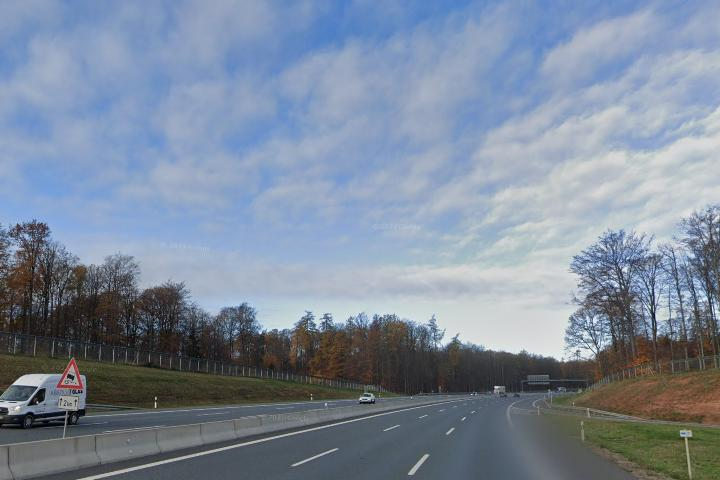traffic_sign: (56, 358, 85, 391)
vehicle: (1, 369, 89, 429), (357, 391, 376, 406)
